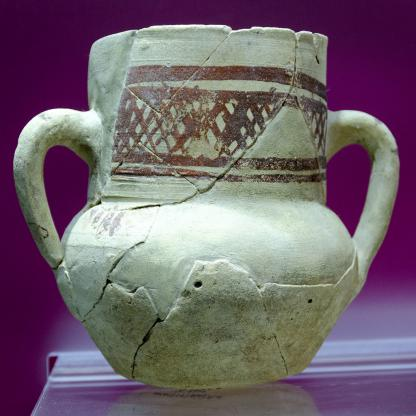vase: (12, 24, 400, 390)
